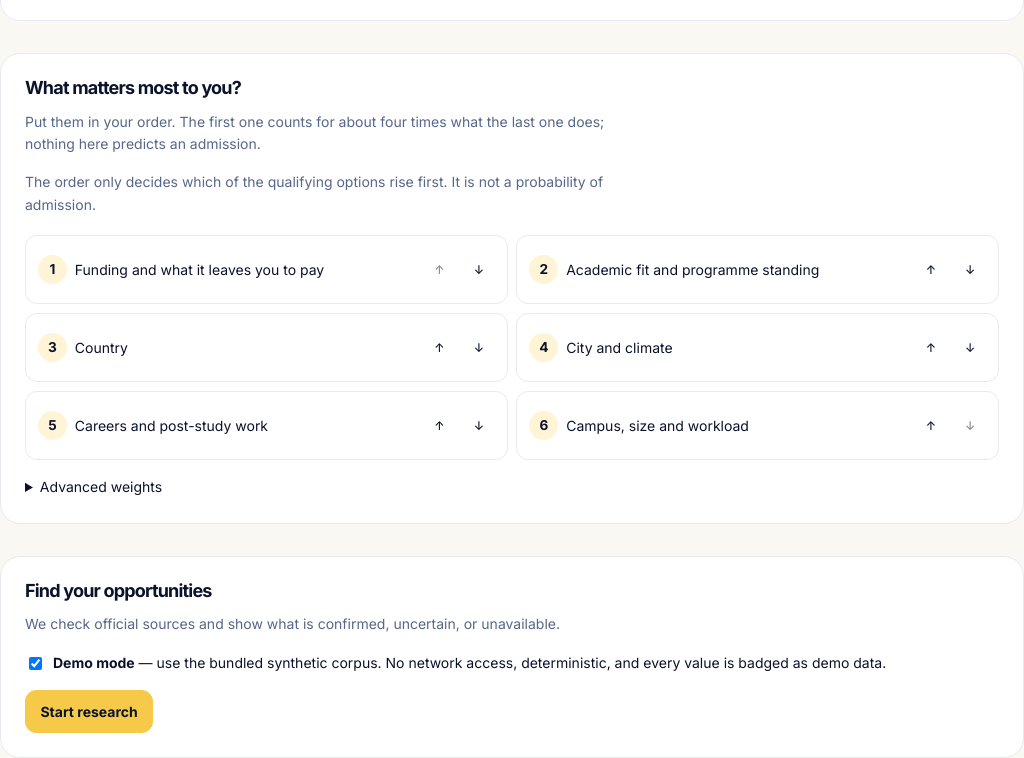
Test: the live-mode disclosure › names the real size of the search when demo mode is turned off
(page scrolled)
Click the checkbox with test id "demo-toggle" at [36, 663], box [29,657,42,670]
(page scrolled)
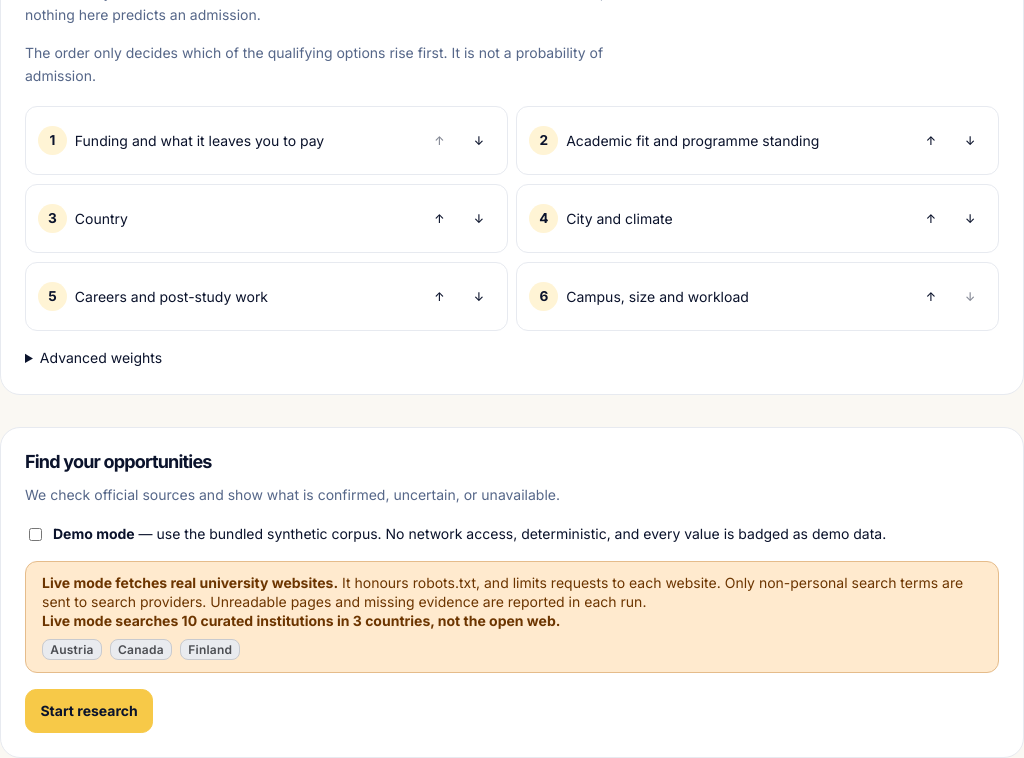
Check: the element with test id "live-coverage" shows "10 curated institutions", box [42,612,560,629]
Check: the element with test id "live-coverage" shows "not the open web", box [42,612,560,629]
Check: the element with test id "live-coverage" shows "Austria", box [50,642,94,656]
